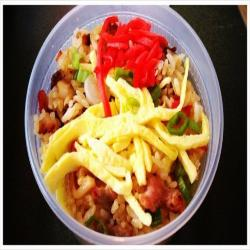rice: (40, 31, 204, 232)
